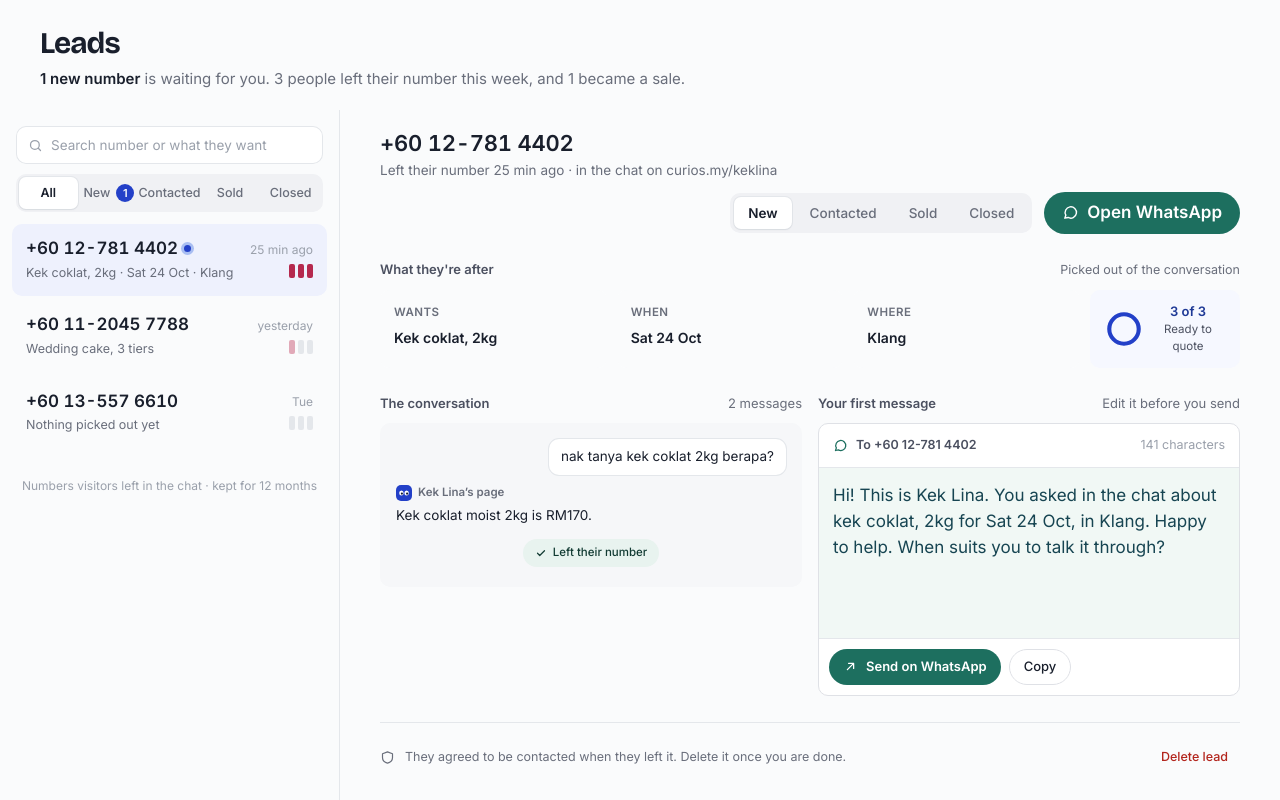
Test: LeadsScreen, the list › filters by status, counting the new ones
Expected: the tab "New 1" is shown, [80,177,138,209]
Click the tab "Contacted".
click(170, 193)  # box [140,177,199,209]
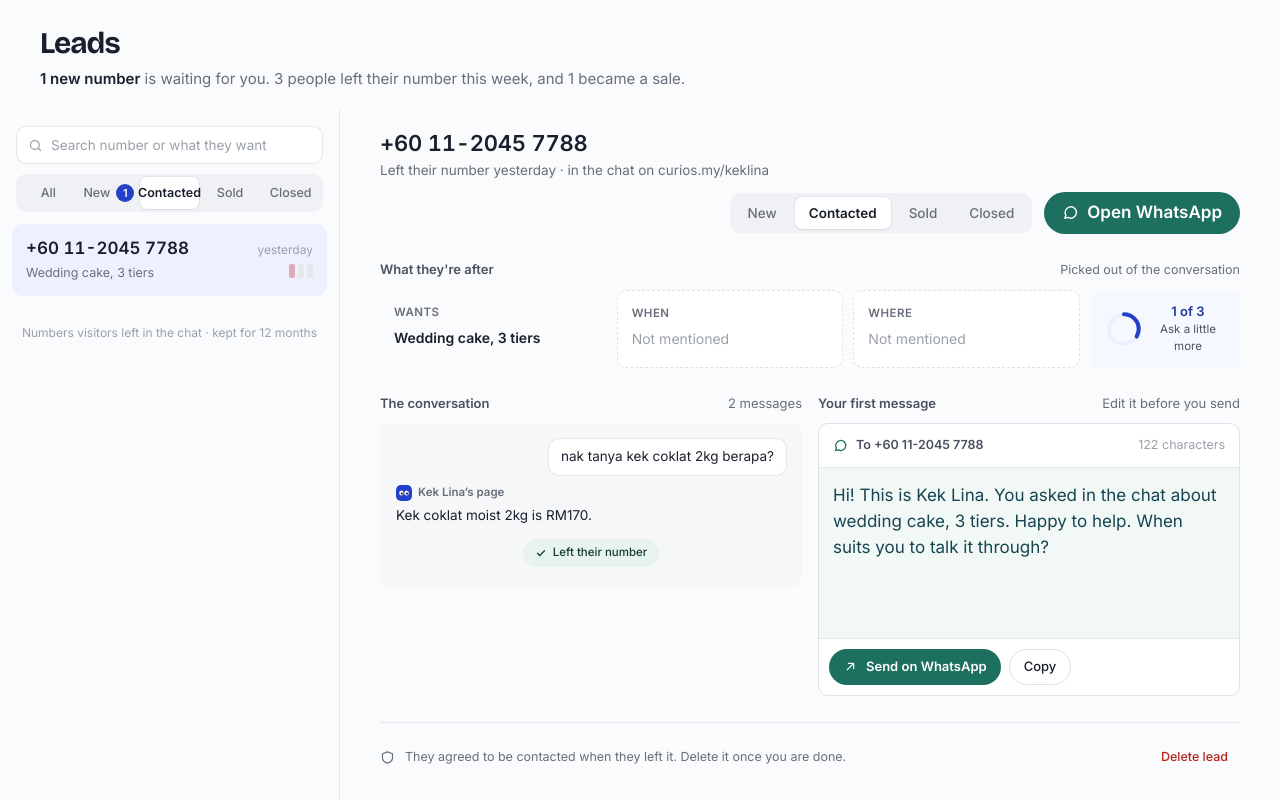
Expected: the heading "+60 11-2045 7788" is shown, [380,130,588,156]
